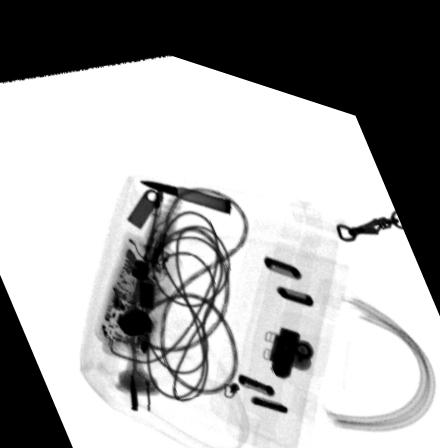Bullet: (135, 170, 232, 201)
